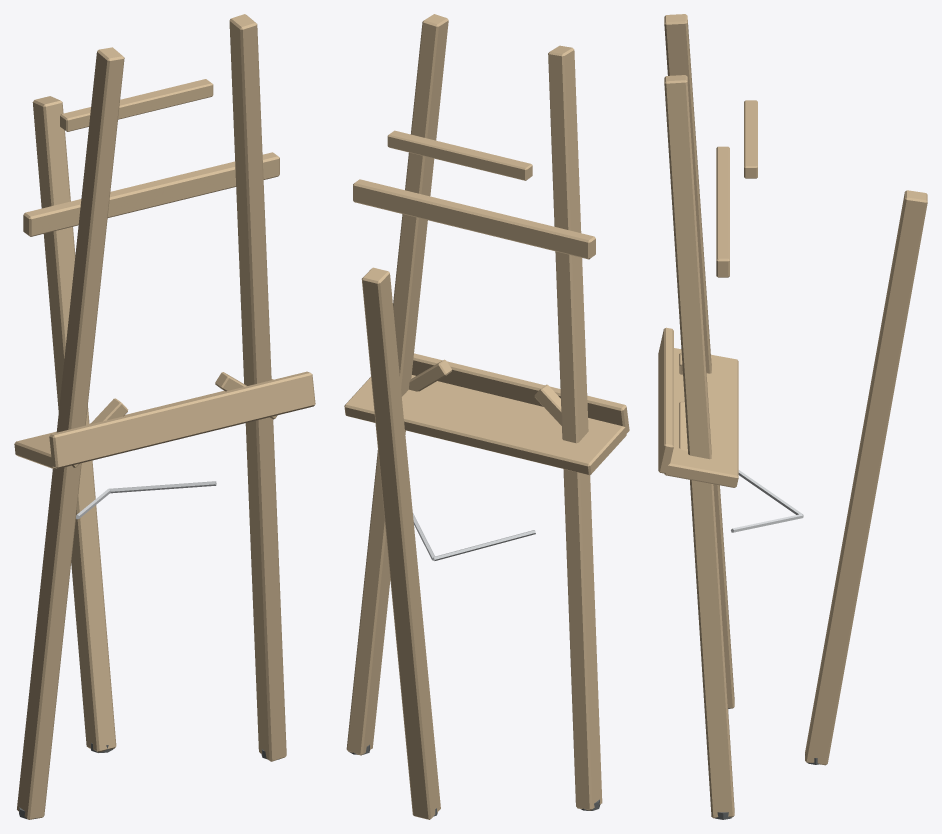
Rendered from garden-centre-and-florist-condolence-easel-2868f811__17771.glb.
3 renders of one model, left to right at view 1: azimuth 30°, elevation 25°; view 2: azimuth 150°, elevation 25°; view 3: azimuth 270°, elevation 25°, orthographic. The views are drawn at different scales.
Parts seen in each view (by area): view 1: condolence-easel; view 2: condolence-easel; view 3: condolence-easel.
Boxes of the visible parts, x1=… form: condolence-easel: x1=14, y1=14, x2=315, y2=819; condolence-easel: x1=344, y1=14, x2=629, y2=819; condolence-easel: x1=658, y1=14, x2=927, y2=819.
Bounding box in the file's own units: 0.608 × 1.7 × 0.5806.
